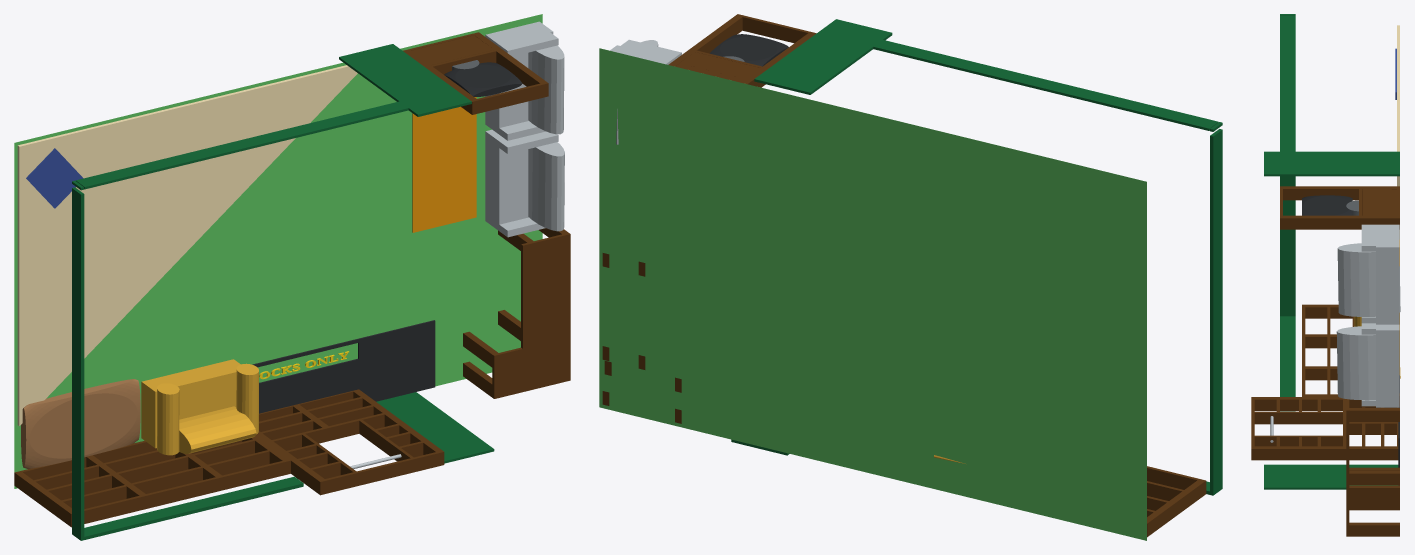
The model's file is tinker.obj.
The picture shows the model from 3 angles, left to right: view 1: azimuth 30°, elevation 25°; view 2: azimuth 150°, elevation 25°; view 3: azimuth 270°, elevation 25°; orthographic projection. The views are drawn at different scales.
Visible parts, largest first — view 1: group_0_6474853, group_0_16311991, group_0_6306067, group_0_1206582, group_0_12568524, group_0_2829873, group_0_14789940, group_0_15571468, group_0_11107152, group_0_3888547; view 2: group_0_6474853, group_0_1206582, group_0_6306067, group_0_2829873, group_0_12568524; view 3: group_0_6306067, group_0_1206582, group_0_12568524, group_0_2829873, group_0_16311991.
Boxes of the visible parts, left/top/right/bottom form: group_0_6474853: left=14, top=14, right=542, bottom=488; group_0_16311991: left=17, top=65, right=357, bottom=426; group_0_6306067: left=14, top=32, right=570, bottom=527; group_0_1206582: left=72, top=44, right=494, bottom=540; group_0_12568524: left=350, top=21, right=564, bottom=468; group_0_2829873: left=252, top=62, right=522, bottom=413; group_0_14789940: left=141, top=359, right=258, bottom=455; group_0_15571468: left=412, top=97, right=476, bottom=232; group_0_11107152: left=21, top=379, right=140, bottom=468; group_0_3888547: left=26, top=148, right=83, bottom=208; group_0_6474853: left=599, top=48, right=1146, bottom=540; group_0_1206582: left=731, top=19, right=1222, bottom=495; group_0_6306067: left=602, top=14, right=1206, bottom=537; group_0_2829873: left=710, top=34, right=788, bottom=66; group_0_12568524: left=610, top=39, right=681, bottom=144; group_0_6306067: left=1251, top=186, right=1399, bottom=536; group_0_1206582: left=1264, top=14, right=1399, bottom=489; group_0_12568524: left=1270, top=224, right=1400, bottom=442; group_0_2829873: left=1302, top=195, right=1399, bottom=485; group_0_16311991: left=1397, top=25, right=1399, bottom=239.
Bounding box in the file's own units: 167 × 107 × 47.17.
